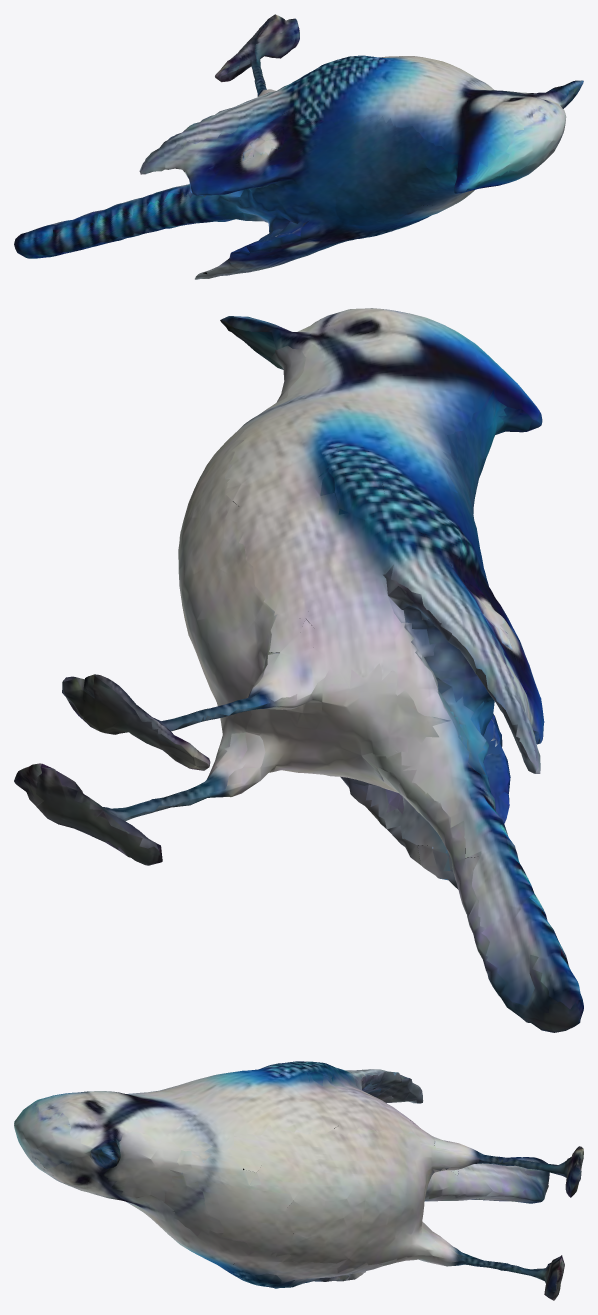
File: bird.glb
3 renders of one model, top to bottom at view 1: azimuth 30°, elevation 25°; view 2: azimuth 150°, elevation 25°; view 3: azimuth 270°, elevation 25°, orthographic. The views are drawn at different scales.
Parts seen in each view (by area): view 1: world.058; view 2: world.058; view 3: world.058.
Boxes of the visible parts, x1,y1,x2,y2 form: world.058: (14, 14, 583, 279); world.058: (14, 308, 583, 1032); world.058: (14, 1061, 583, 1300).
Bounding box in the file's own units: 0.8912 × 0.4817 × 0.9221.
1 material, 1 textured.
